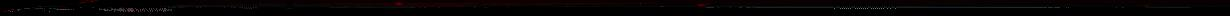Blue cone: (78, 2, 86, 4), (38, 6, 43, 7)
Yellow cone: (393, 2, 404, 6)
